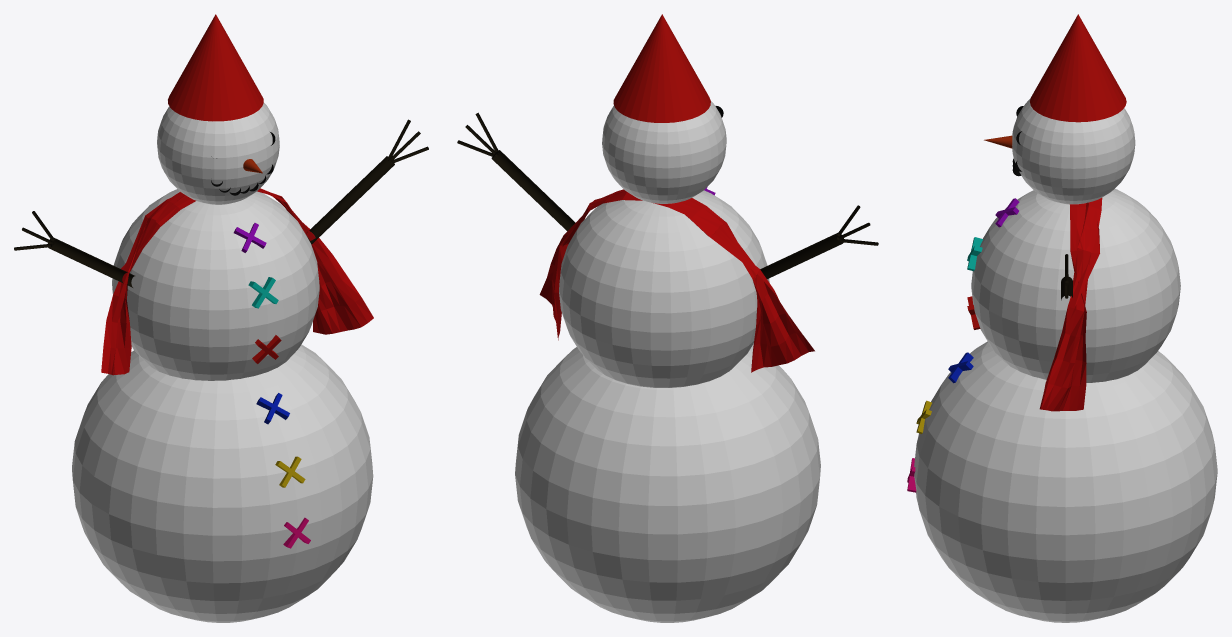
File: snowman.obj
3 renders of one model, left to right at view 1: azimuth 30°, elevation 25°; view 2: azimuth 150°, elevation 25°; view 3: azimuth 270°, elevation 25°, orthographic.
Parts seen in each view (by area): view 1: Sphere, Sphere.012_Sphere.017, Sphere.002, Plane, Cone, Cylinder.003; view 2: Sphere, Sphere.012_Sphere.017, Sphere.002, Plane, Cone, Cylinder.003; view 3: Sphere, Sphere.012_Sphere.017, Sphere.002, Cone, Plane.
Boxes of the visible parts, bbox=[...] form: Sphere: bbox=[72, 344, 373, 622]; Sphere.012_Sphere.017: bbox=[112, 189, 319, 380]; Sphere.002: bbox=[157, 102, 279, 204]; Plane: bbox=[101, 188, 373, 375]; Cone: bbox=[168, 14, 263, 121]; Cylinder.003: bbox=[14, 119, 428, 287]; Sphere: bbox=[515, 344, 820, 622]; Sphere.012_Sphere.017: bbox=[559, 190, 769, 387]; Sphere.002: bbox=[602, 100, 726, 203]; Plane: bbox=[539, 189, 814, 372]; Cone: bbox=[613, 14, 710, 122]; Cylinder.003: bbox=[457, 112, 878, 279]; Sphere: bbox=[914, 341, 1217, 622]; Sphere.012_Sphere.017: bbox=[971, 189, 1180, 382]; Sphere.002: bbox=[1012, 98, 1135, 204]; Cone: bbox=[1030, 14, 1126, 122]; Plane: bbox=[1039, 198, 1102, 411].
Size of the model in its own units: 6.77 by 9.24 by 4.37.
